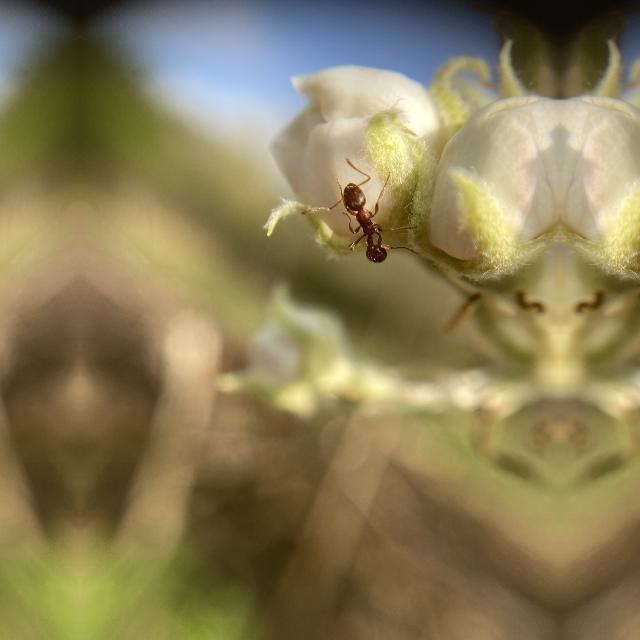Myrmica: (325, 160, 409, 272)
